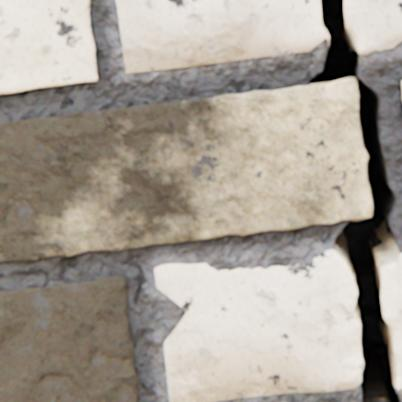brick: (0, 78, 372, 261), (0, 274, 139, 401), (0, 0, 98, 94)
broken_brick: (155, 248, 363, 401), (117, 0, 328, 73), (344, 0, 401, 54), (380, 252, 401, 391)
crack: (309, 0, 399, 401)
